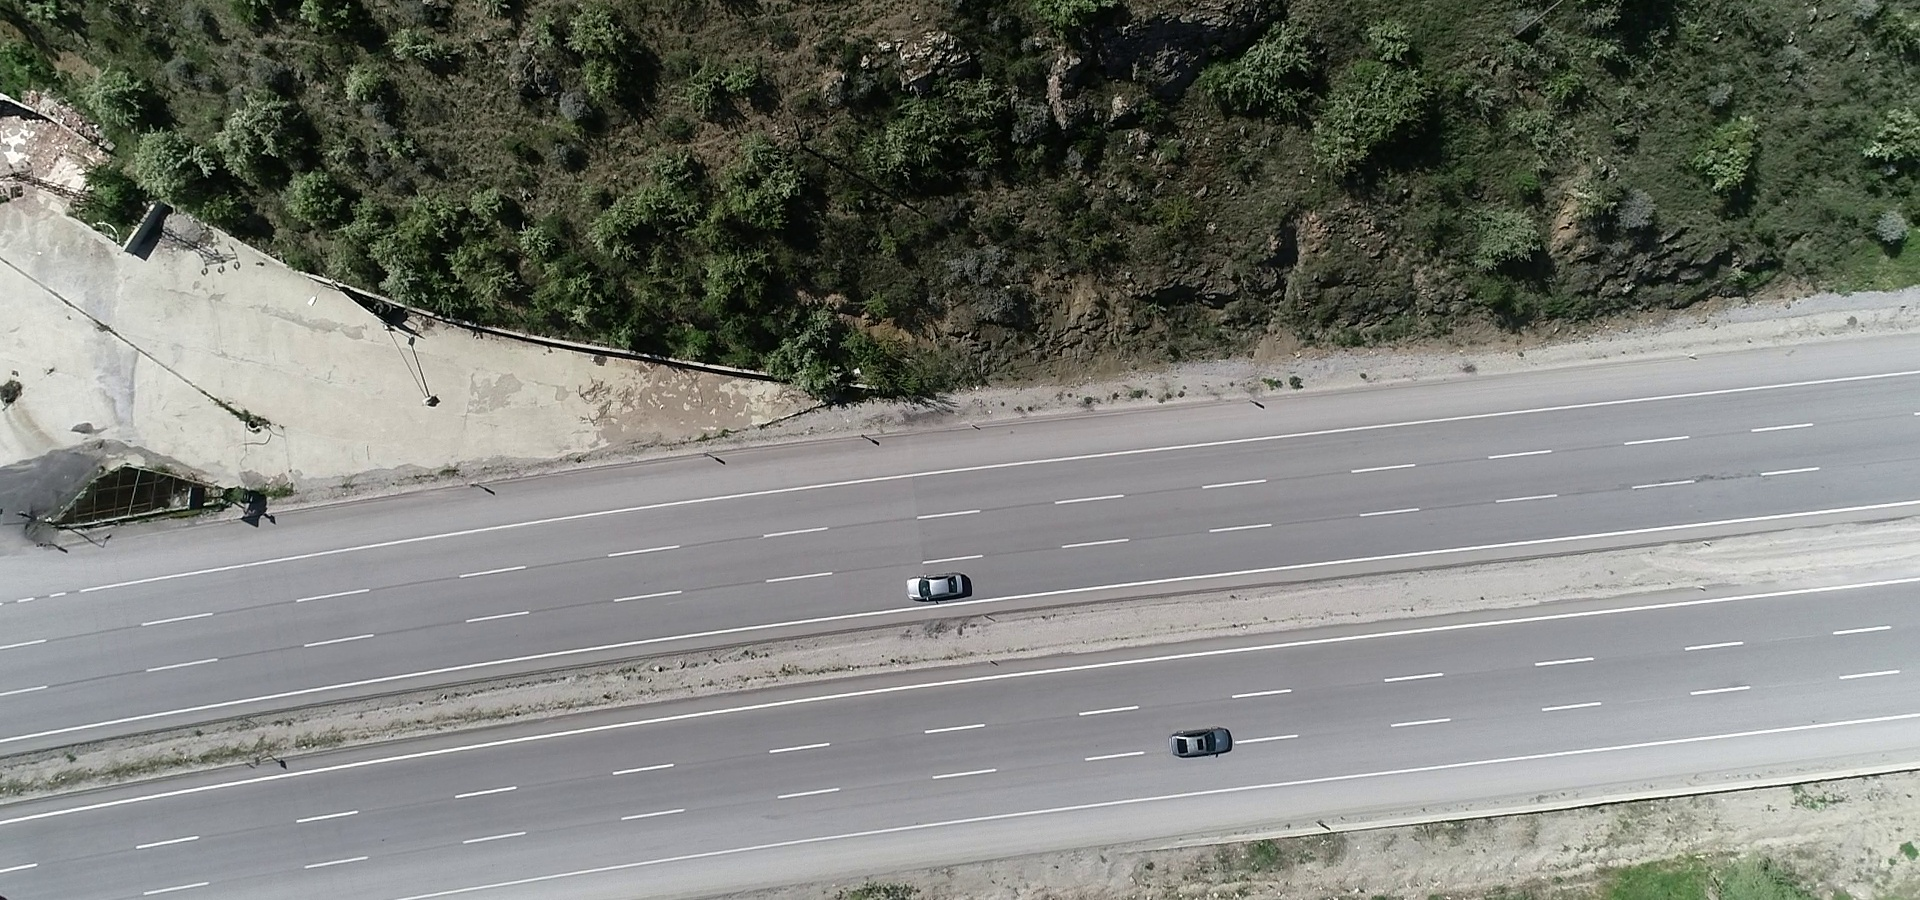araba: (898, 563, 971, 609), (1166, 722, 1248, 762)
